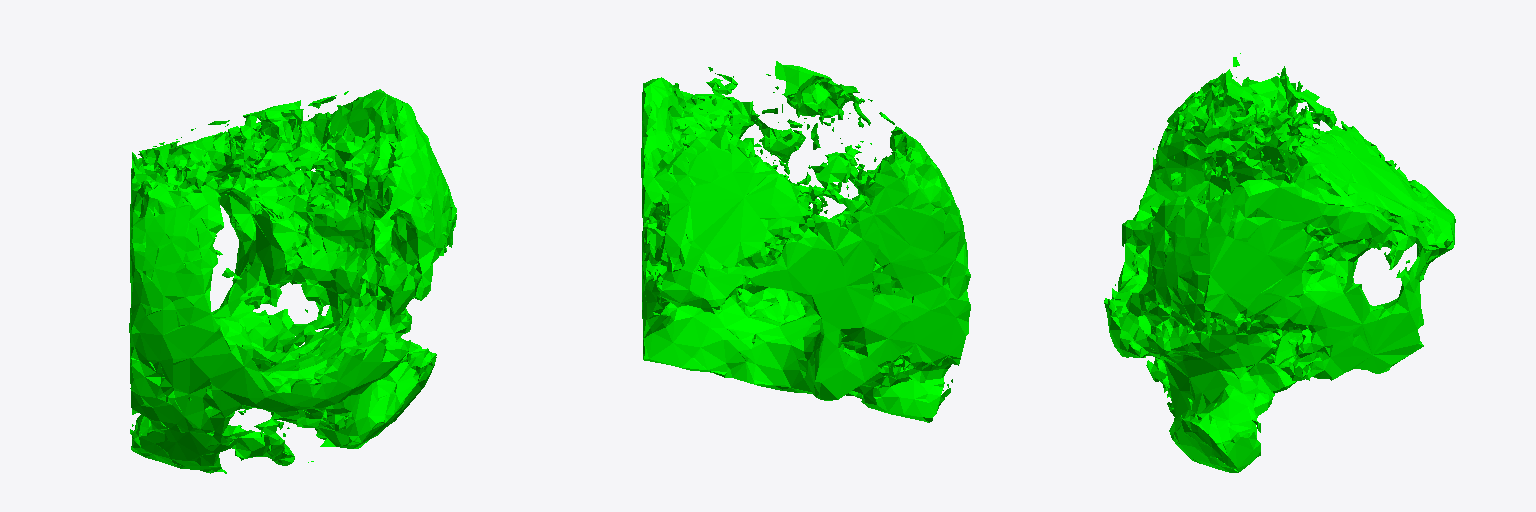
Rendered from B939XXXX-1_base_28.obj.
3 renders of one model, left to right at view 1: azimuth 30°, elevation 25°; view 2: azimuth 150°, elevation 25°; view 3: azimuth 270°, elevation 25°, orthographic.
Parts seen in each view (by area): view 1: 28_base; view 2: 28_base; view 3: 28_base.
Part boxes in pixels (x1,y1,x2,y2): 28_base: (129,89,456,473); 28_base: (641,61,970,422); 28_base: (1104,53,1455,472).
Size of the model in its own units: 218 by 218 by 203.